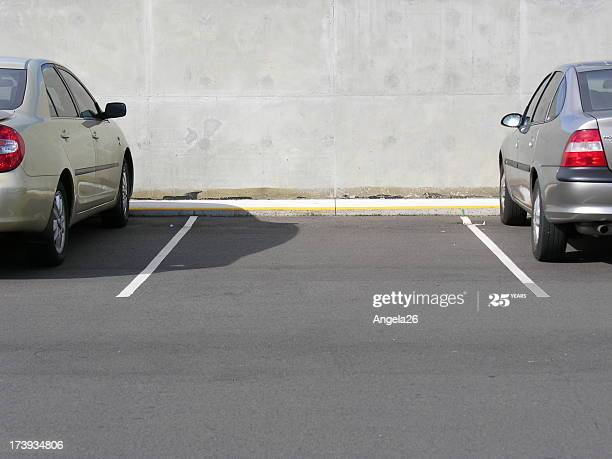car: (3, 56, 142, 272), (500, 58, 612, 270)
